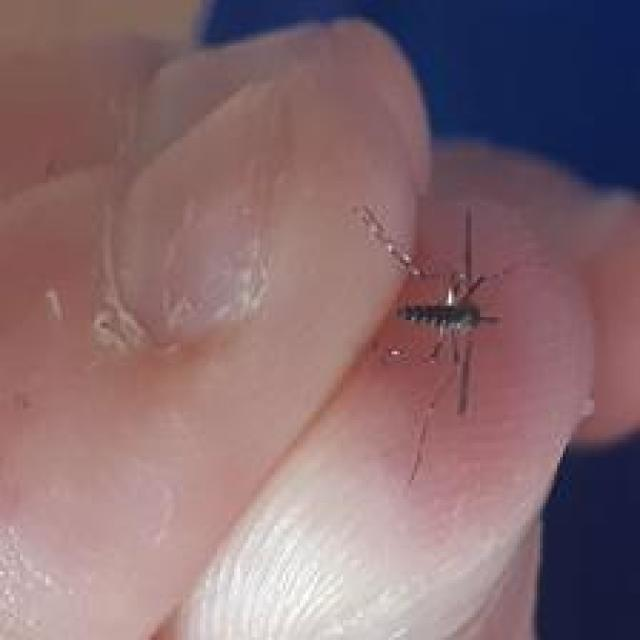Aedes albopictus: (353, 202, 507, 484)
